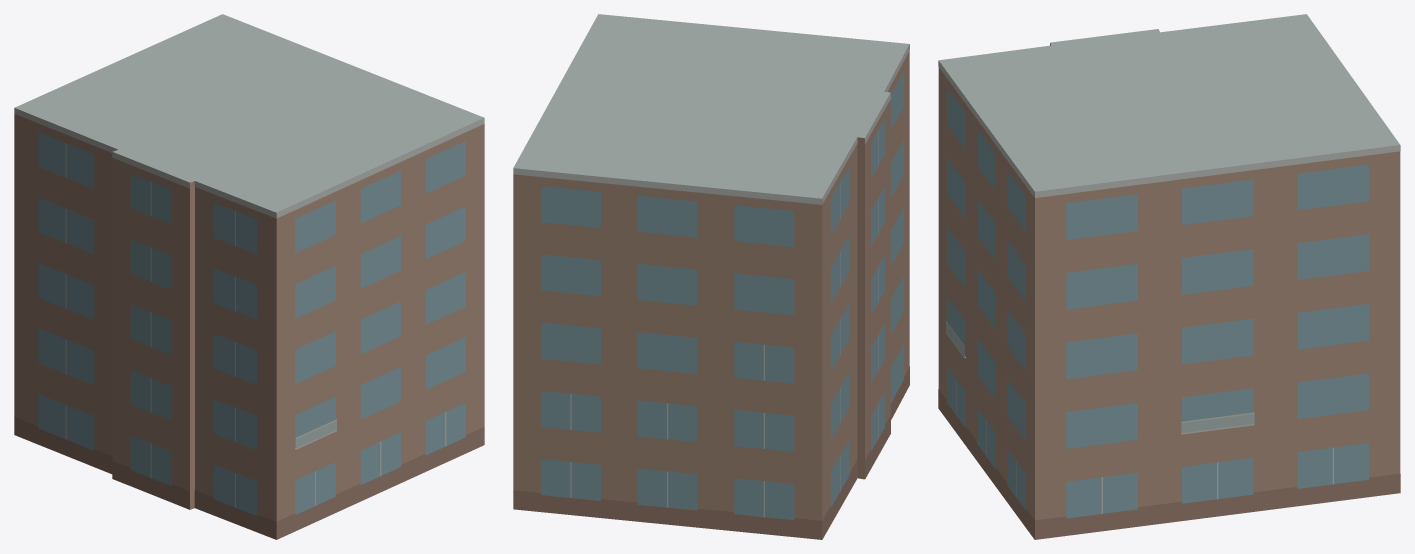
Rendered from survey-upis-32858217.glb.
The picture shows the model from 3 angles, left to right: view 1: azimuth 30°, elevation 25°; view 2: azimuth 150°, elevation 25°; view 3: azimuth 270°, elevation 25°; orthographic projection. The views are drawn at different scales.
Parts seen in each view (by area): view 1: survey-upis-32858217.tmp; view 2: survey-upis-32858217.tmp; view 3: survey-upis-32858217.tmp.
Boxes of the visible parts, x1,y1,x2,y2 form: survey-upis-32858217.tmp: (14, 14, 484, 539); survey-upis-32858217.tmp: (513, 14, 909, 539); survey-upis-32858217.tmp: (938, 14, 1400, 539).
Bounding box in the file's own units: 14.8 × 13.5 × 16.25.
